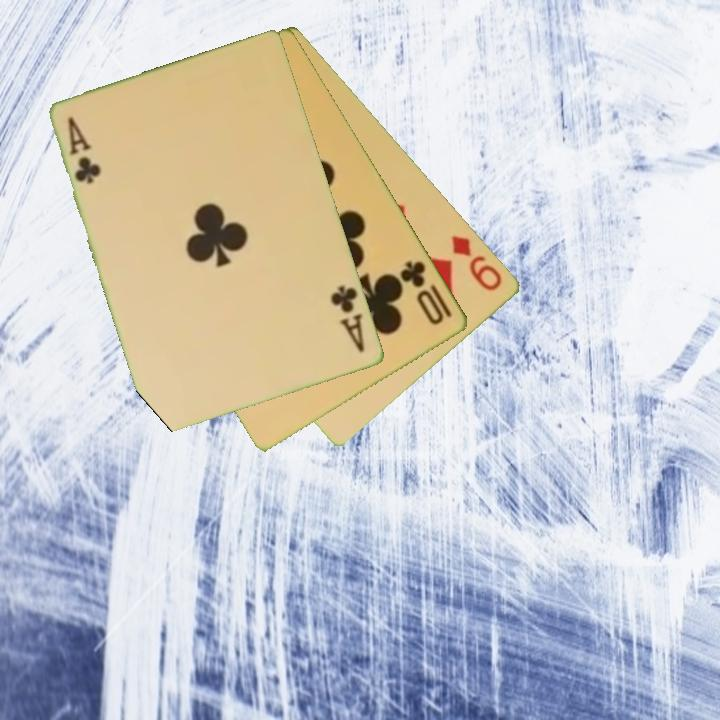10c: (396, 257, 456, 328)
9d: (448, 231, 506, 294)
Ac: (327, 282, 368, 356), (65, 113, 105, 188)
